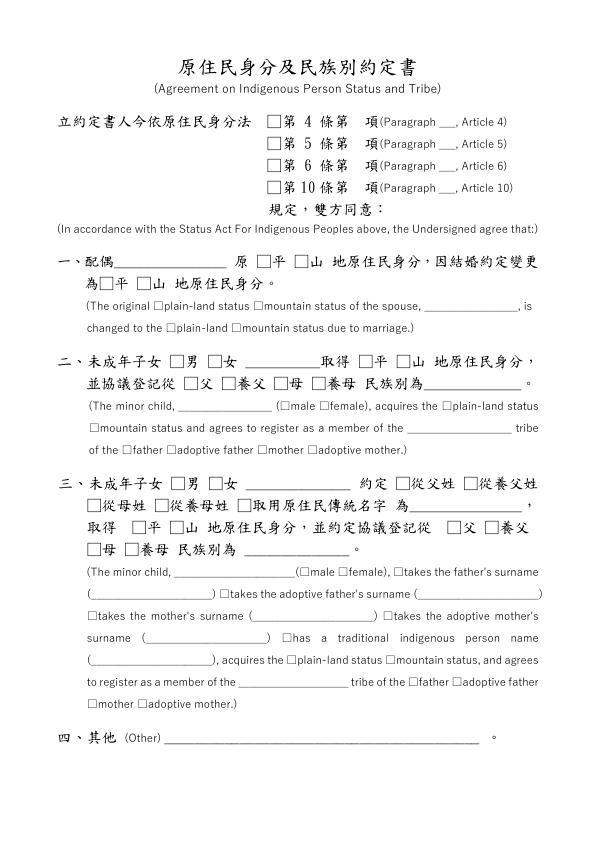check_box: (290, 252, 310, 271), (205, 351, 223, 371), (394, 351, 412, 371), (134, 274, 152, 293), (206, 474, 224, 493), (461, 475, 480, 493), (357, 351, 374, 371), (264, 111, 282, 129), (265, 178, 283, 196), (169, 475, 187, 493), (393, 474, 411, 492), (152, 497, 170, 515), (309, 375, 328, 392), (168, 517, 185, 536), (124, 540, 141, 559), (265, 134, 283, 151), (220, 374, 237, 392), (272, 374, 289, 392), (445, 518, 462, 536), (483, 518, 500, 536), (169, 351, 185, 370), (85, 540, 101, 559), (265, 157, 282, 174), (255, 252, 272, 269), (182, 375, 200, 391), (99, 275, 115, 292), (85, 497, 102, 513), (235, 496, 251, 513), (130, 519, 146, 535), (297, 564, 311, 578), (451, 674, 462, 690), (337, 565, 349, 578), (319, 399, 330, 413), (85, 610, 99, 621), (408, 674, 419, 688), (137, 696, 147, 711), (251, 298, 262, 311), (165, 320, 176, 333), (306, 443, 317, 456), (392, 565, 403, 578), (281, 630, 292, 643), (230, 321, 240, 335), (89, 420, 99, 434), (384, 653, 394, 667), (152, 299, 163, 311), (120, 443, 130, 456), (164, 443, 174, 456), (257, 443, 266, 457), (383, 608, 392, 622), (286, 654, 296, 666), (87, 697, 97, 709), (279, 399, 289, 410), (442, 398, 450, 410)
input: (163, 732, 487, 746), (418, 584, 541, 603), (116, 251, 225, 272), (250, 608, 375, 625), (407, 417, 510, 437), (91, 586, 212, 603), (244, 541, 350, 560), (172, 566, 297, 582), (145, 631, 268, 647), (245, 475, 350, 493), (177, 395, 273, 414), (424, 375, 521, 393), (238, 676, 348, 691), (91, 655, 213, 667), (423, 298, 517, 313), (243, 353, 319, 371), (438, 114, 455, 129), (439, 183, 454, 198), (438, 138, 455, 151), (438, 162, 455, 173)
text: (150, 55, 448, 97), (56, 219, 545, 237), (206, 518, 435, 536), (331, 252, 540, 271), (101, 421, 403, 434), (54, 113, 251, 128), (254, 496, 408, 514), (293, 633, 541, 644), (268, 198, 386, 219), (230, 587, 411, 600), (394, 608, 540, 623), (403, 563, 539, 579), (242, 321, 417, 333), (97, 608, 246, 622), (53, 729, 161, 747), (434, 353, 538, 371), (284, 110, 377, 130), (83, 677, 235, 689), (284, 154, 379, 173), (51, 353, 162, 369), (283, 177, 378, 195), (172, 276, 276, 292), (396, 654, 542, 665), (85, 375, 179, 392), (55, 476, 165, 490), (452, 398, 542, 415), (283, 135, 378, 151), (84, 564, 171, 579), (318, 444, 410, 458), (264, 302, 421, 310), (88, 397, 175, 411), (297, 654, 384, 667), (177, 542, 239, 560), (170, 497, 230, 515), (177, 443, 253, 457), (365, 375, 421, 393), (479, 474, 538, 491), (86, 321, 163, 334), (460, 111, 508, 130), (150, 700, 239, 710), (163, 300, 249, 310), (85, 300, 151, 313), (462, 677, 540, 688), (383, 158, 436, 174), (383, 113, 435, 128), (383, 136, 435, 151), (460, 181, 514, 195), (56, 255, 114, 268), (383, 181, 436, 195), (410, 475, 456, 491), (461, 137, 510, 151), (501, 517, 530, 540), (177, 321, 227, 334), (373, 401, 437, 411), (221, 655, 285, 665), (351, 677, 404, 689), (461, 158, 509, 171), (103, 498, 146, 512), (349, 564, 384, 581), (141, 538, 168, 560), (321, 350, 350, 370), (85, 631, 133, 643), (329, 397, 364, 413), (238, 375, 268, 393), (85, 520, 119, 535), (327, 375, 356, 392), (266, 445, 305, 457), (357, 477, 388, 492), (132, 443, 163, 455), (87, 444, 119, 455), (309, 564, 334, 578), (290, 398, 316, 411), (224, 474, 241, 493), (198, 374, 216, 391), (419, 677, 449, 687), (98, 700, 135, 708), (514, 422, 538, 434), (411, 353, 427, 369), (374, 353, 389, 370), (288, 374, 303, 391), (233, 254, 249, 269), (185, 520, 201, 535), (187, 474, 201, 491), (148, 520, 163, 535), (272, 254, 286, 270), (115, 275, 129, 291), (464, 518, 477, 535), (186, 353, 198, 371), (84, 276, 98, 291), (224, 353, 236, 370), (152, 277, 166, 291), (102, 542, 116, 556), (311, 255, 324, 269), (521, 298, 534, 311)
